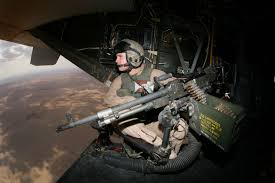gun: (51, 71, 246, 153)
